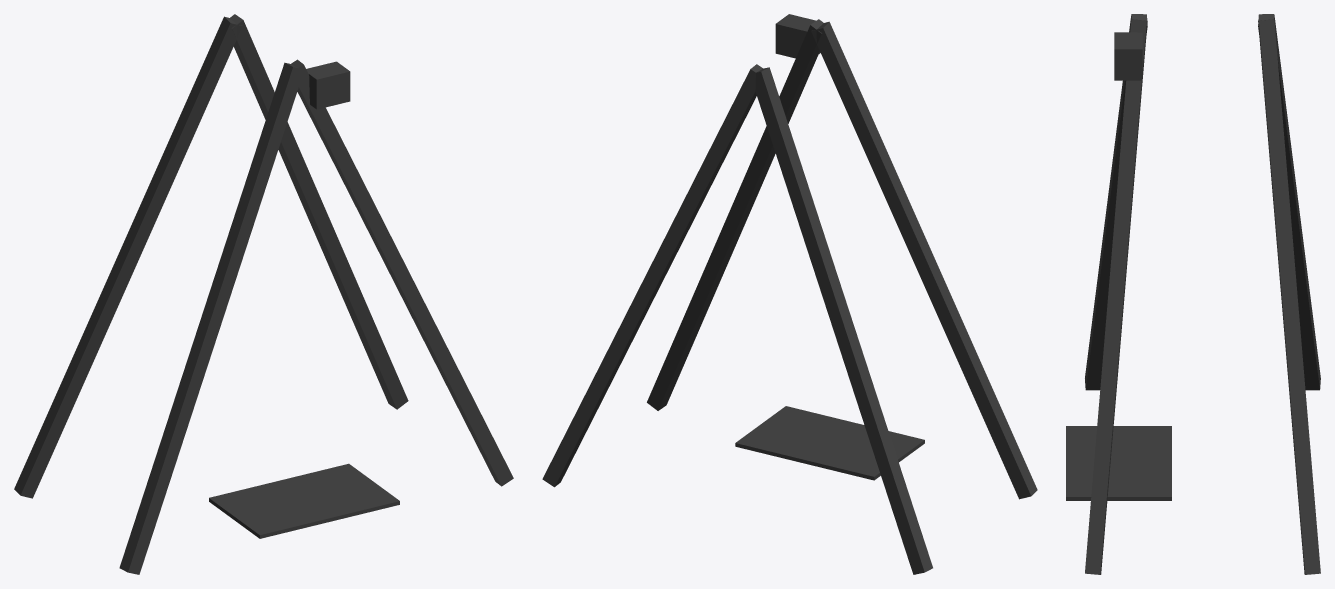
Rendered from PROJECT_Z_FW40_Skyring_Ferris_Wheel_Collision_Proxies.glb.
The picture shows the model from 3 angles, left to right: view 1: azimuth 30°, elevation 25°; view 2: azimuth 150°, elevation 25°; view 3: azimuth 270°, elevation 25°; orthographic projection. The views are drawn at different scales.
Parts seen in each view (by area): view 1: UCX_FW40_Leg_N_L, UCX_FW40_Leg_S_L, UCX_FW40_Leg_N_R, UCX_FW40_Platform_00, UCX_FW40_Leg_S_R, UCX_FW40_Gearbox_00; view 2: UCX_FW40_Leg_S_L, UCX_FW40_Leg_N_L, UCX_FW40_Leg_S_R, UCX_FW40_Leg_N_R, UCX_FW40_Platform_00, UCX_FW40_Gearbox_00; view 3: UCX_FW40_Leg_S_R, UCX_FW40_Leg_N_R, UCX_FW40_Platform_00, UCX_FW40_Leg_S_L, UCX_FW40_Leg_N_L, UCX_FW40_Gearbox_00.
Boxes of the visible parts, left/top/right/bottom form: UCX_FW40_Leg_N_L: left=119, top=62, right=298, bottom=574; UCX_FW40_Leg_S_L: left=14, top=16, right=242, bottom=498; UCX_FW40_Leg_N_R: left=291, top=59, right=513, bottom=486; UCX_FW40_Platform_00: left=209, top=463, right=399, bottom=538; UCX_FW40_Leg_S_R: left=230, top=14, right=408, bottom=409; UCX_FW40_Gearbox_00: left=306, top=61, right=350, bottom=109; UCX_FW40_Leg_S_L: left=755, top=67, right=932, bottom=574; UCX_FW40_Leg_N_L: left=811, top=21, right=1037, bottom=499; UCX_FW40_Leg_S_R: left=542, top=64, right=762, bottom=487; UCX_FW40_Leg_N_R: left=647, top=19, right=823, bottom=410; UCX_FW40_Platform_00: left=735, top=406, right=924, bottom=480; UCX_FW40_Gearbox_00: left=775, top=14, right=820, bottom=58; UCX_FW40_Leg_S_R: left=1258, top=19, right=1320, bottom=574; UCX_FW40_Leg_N_R: left=1085, top=19, right=1147, bottom=574; UCX_FW40_Platform_00: left=1066, top=426, right=1171, bottom=500; UCX_FW40_Leg_S_L: left=1258, top=14, right=1320, bottom=390; UCX_FW40_Leg_N_L: left=1085, top=14, right=1147, bottom=390; UCX_FW40_Gearbox_00: left=1114, top=32, right=1142, bottom=80.
Bounding box in the file's own units: 19.66 × 21.76 × 10.79.
Materials: 1 (1 with a texture image).
